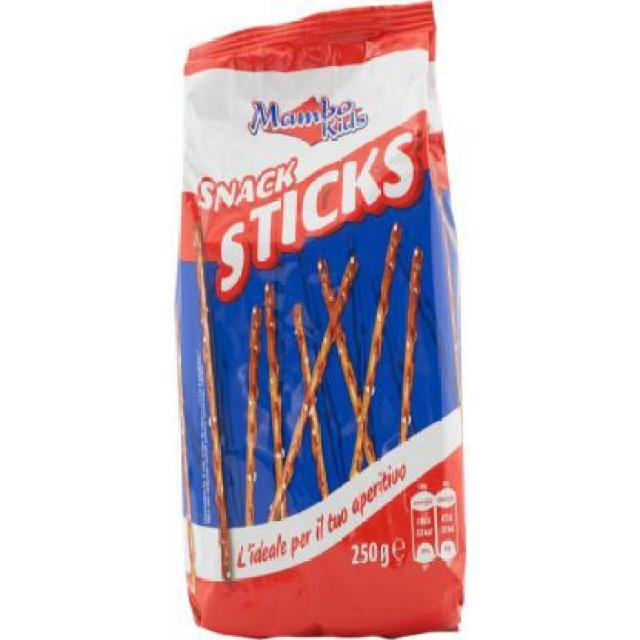Salatini: (166, 11, 478, 634)
